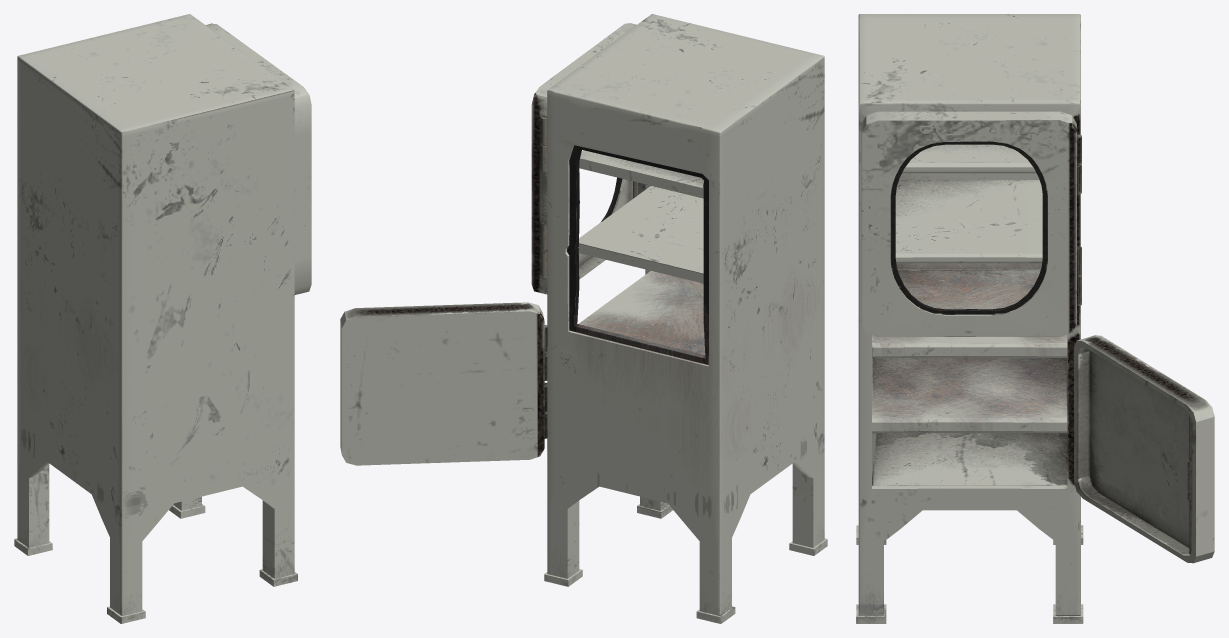
Rendered from MedicalCabinet_MeshVariation2.fbx.
3 renders of one model, left to right at view 1: azimuth 30°, elevation 25°; view 2: azimuth 150°, elevation 25°; view 3: azimuth 270°, elevation 25°, orthographic. The views are drawn at different scales.
Parts seen in each view (by area): view 1: MedicalCabinet_MeshVariant1; view 2: MedicalCabinet_MeshVariant1; view 3: MedicalCabinet_MeshVariant1.
Boxes of the visible parts, x1,y1,x2,y2 form: MedicalCabinet_MeshVariant1: [14, 14, 311, 623]; MedicalCabinet_MeshVariant1: [340, 14, 827, 623]; MedicalCabinet_MeshVariant1: [856, 14, 1214, 623].
Bounding box in the file's own units: 106 × 152 × 95.1.
